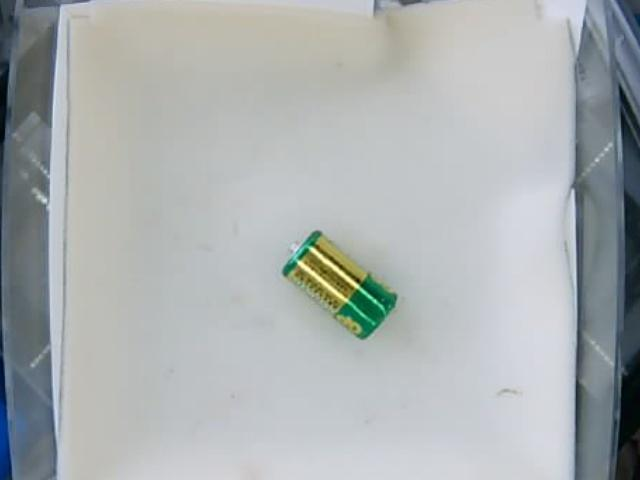Battery: (281, 231, 397, 337)
